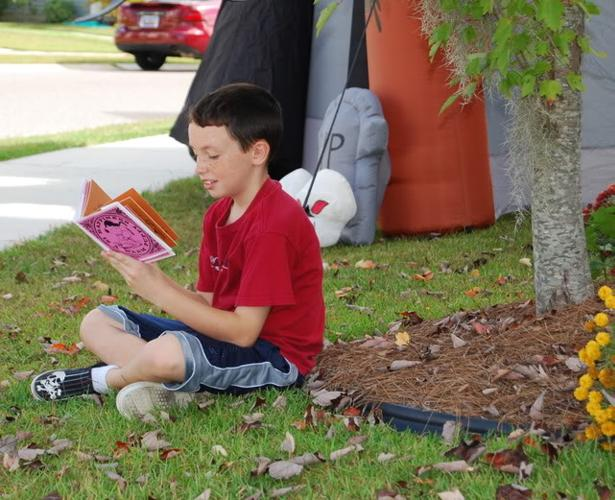person: (30, 83, 326, 430)
